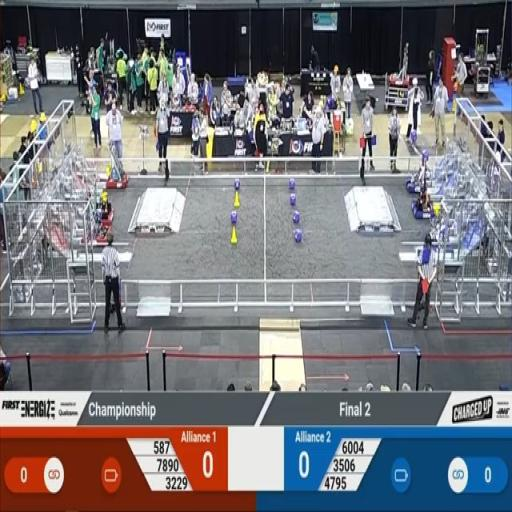robot: (84, 197, 114, 245), (105, 138, 130, 188), (411, 172, 436, 222), (406, 155, 430, 194), (96, 190, 116, 226)
